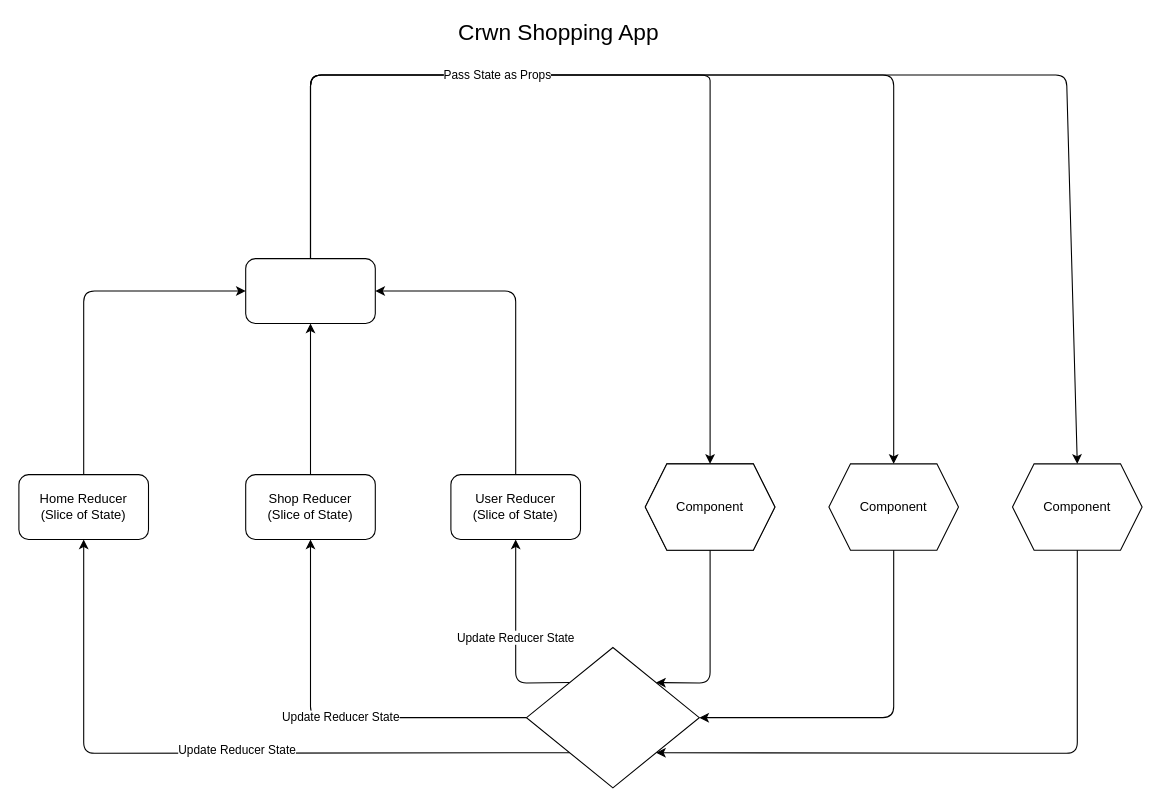
Image size: 1161x807. Some labels were removed from this diagram. The shapes that lost their labels are listed below. From the top down, each one's centre as x and y in pixels, then its label:
the point at 310,290: Root Reducer (App State)
the point at 612,717: Actions
